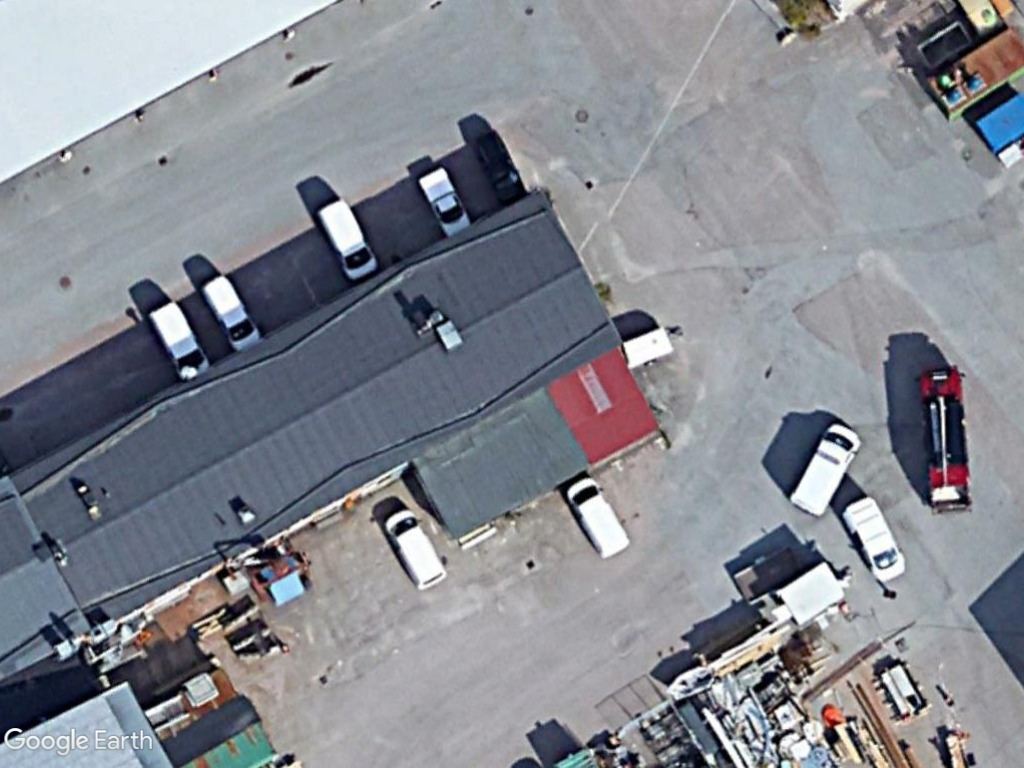car: (474, 130, 532, 208), (417, 163, 473, 239)
van: (785, 421, 864, 519), (839, 493, 907, 585), (563, 474, 632, 563), (379, 508, 450, 592), (145, 296, 213, 383), (315, 194, 380, 283), (200, 272, 265, 356)
